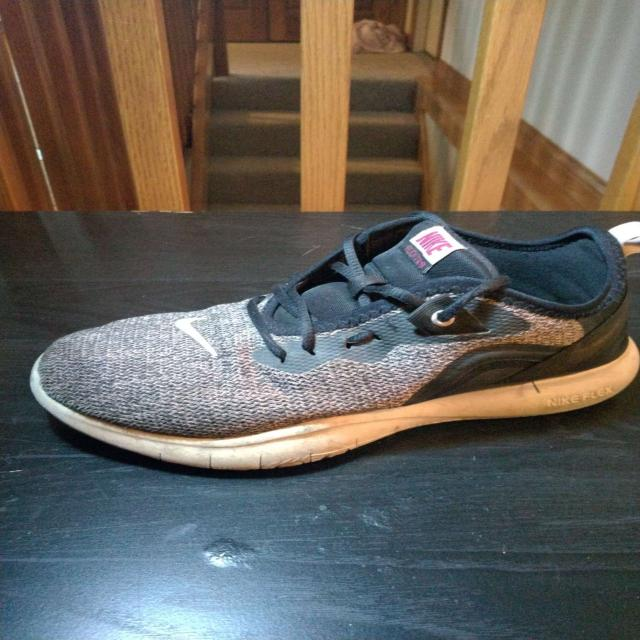shoe: (26, 209, 640, 472)
